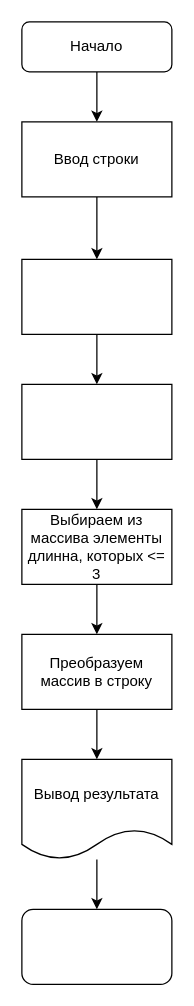
This 194x1006 diagram has some shape labels left out. The centre of each missing label's shape, as x and y in pixels:
Конец: point (96, 946)
Определение разделителей для ввода ("," или " "): point (96, 296)
Разбитие строки на массив: point (96, 421)
